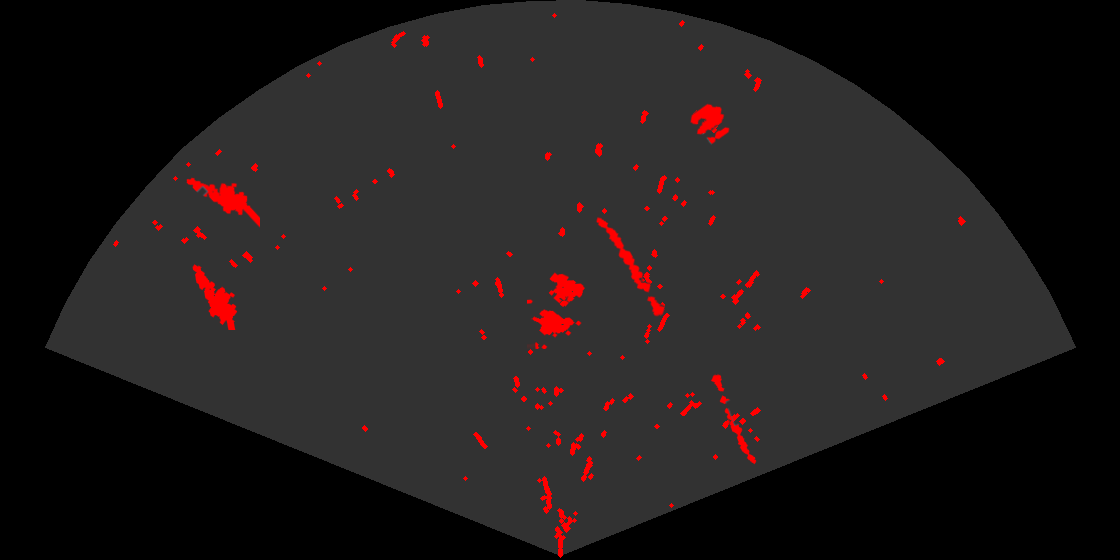ball: (689, 102, 731, 146)
cage: (527, 271, 586, 349)
chain: (594, 215, 667, 318), (709, 372, 758, 466)
frogman: (185, 176, 260, 229), (191, 263, 239, 330)
